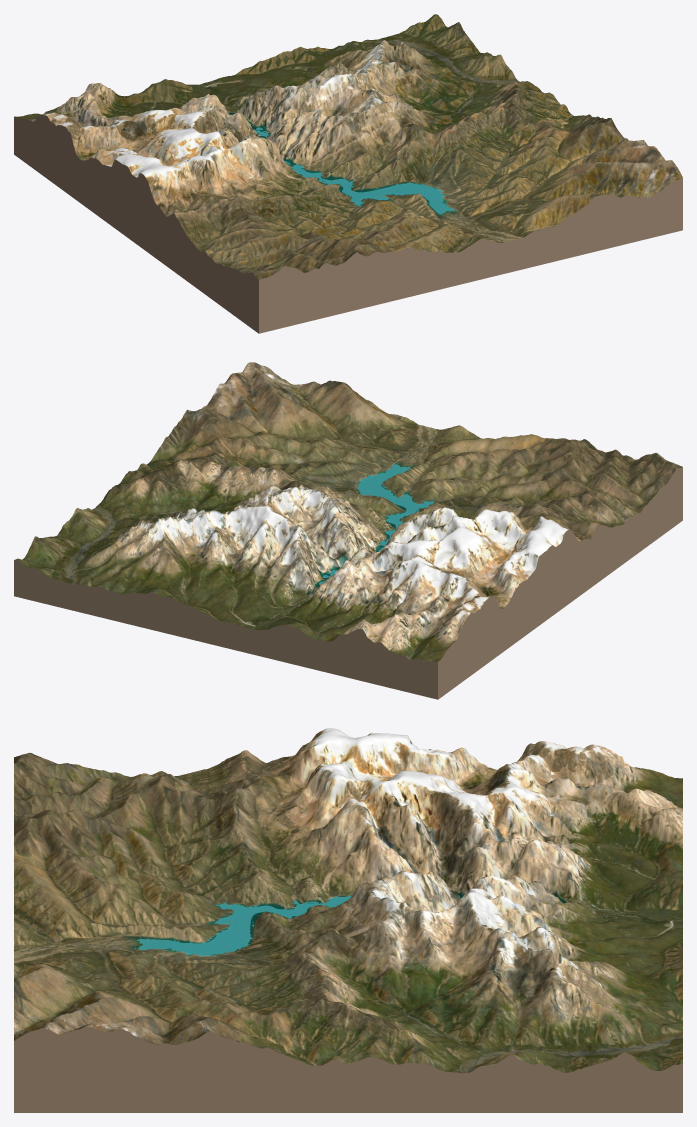
The model's file is kel-suu.glb.
3 renders of one model, top to bottom at view 1: azimuth 30°, elevation 25°; view 2: azimuth 150°, elevation 25°; view 3: azimuth 270°, elevation 25°, orthographic. The views are drawn at different scales.
Parts seen in each view (by area): view 1: Рельеф, Бока, Вода; view 2: Рельеф, Бока, Вода; view 3: Рельеф, Бока, Вода.
Boxes of the visible parts, x1,y1,x2,y2 form: Рельеф: (14,14,682,279); Бока: (14,115,682,333); Вода: (231,114,455,214); Рельеф: (16,362,682,661); Бока: (14,467,682,699); Вода: (310,463,434,593); Рельеф: (14,728,682,1073); Бока: (14,1026,682,1112); Вода: (134,896,351,956).
Bounding box in the file's own units: 14000 × 2531 × 14000.
3 materials, 1 textured.
